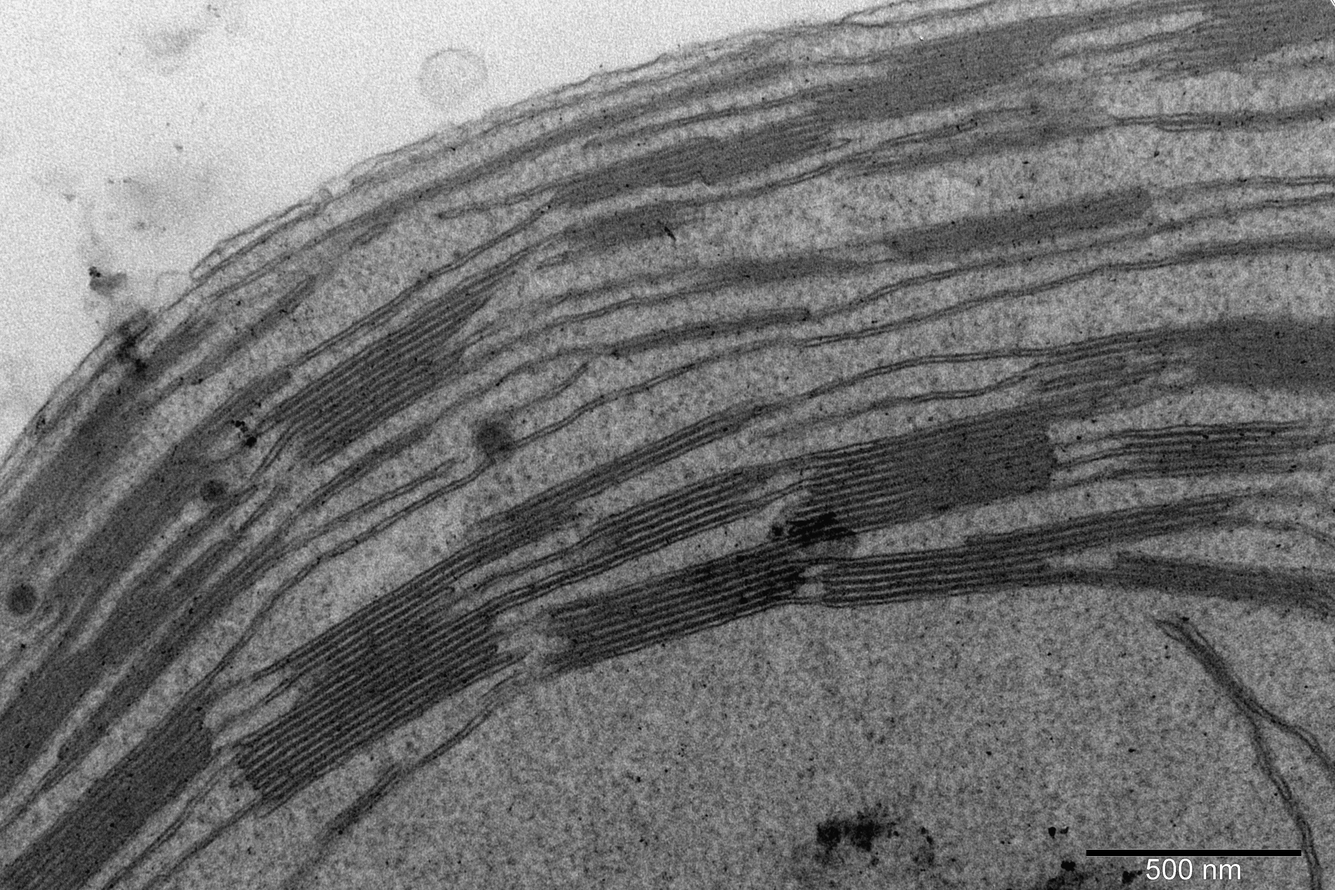granum: (223, 557, 514, 815), (440, 391, 794, 582), (37, 364, 286, 625), (52, 521, 301, 773), (0, 309, 222, 584), (269, 252, 523, 476), (814, 485, 1245, 613), (0, 669, 224, 890), (785, 393, 1059, 550), (534, 533, 807, 683), (815, 7, 1094, 134), (554, 104, 839, 209), (84, 534, 245, 681), (880, 182, 1155, 265), (589, 457, 773, 572), (1024, 320, 1199, 427), (1109, 546, 1335, 627), (0, 642, 106, 807), (1149, 0, 1335, 87), (1114, 414, 1314, 484), (1193, 308, 1335, 399), (561, 189, 708, 256), (692, 246, 836, 298), (827, 133, 912, 189)
